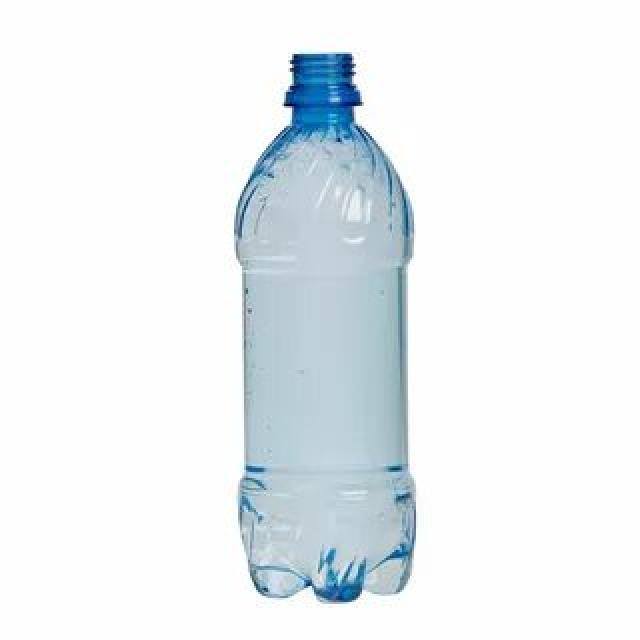blue: (230, 48, 418, 605)
